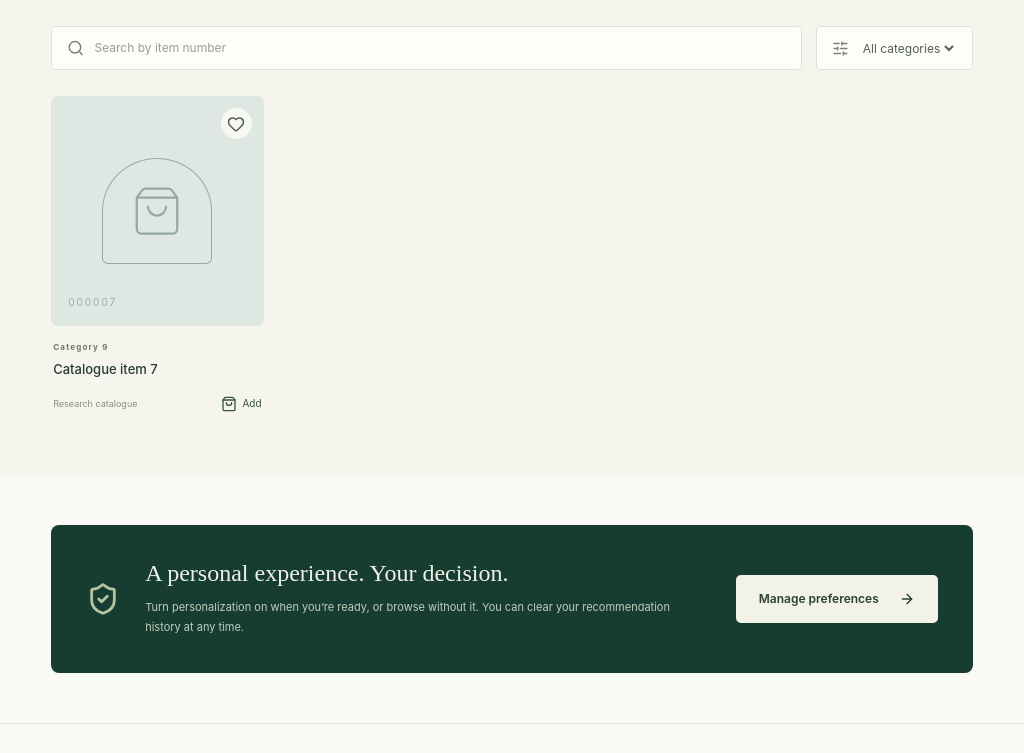
research storefront › closes item details when a guest starts basket sign-in
The width and height of the screenshot is (1024, 753).
(page scrolled)
Click the button "Catalogue item 7": (105, 370) [53, 360, 158, 380]
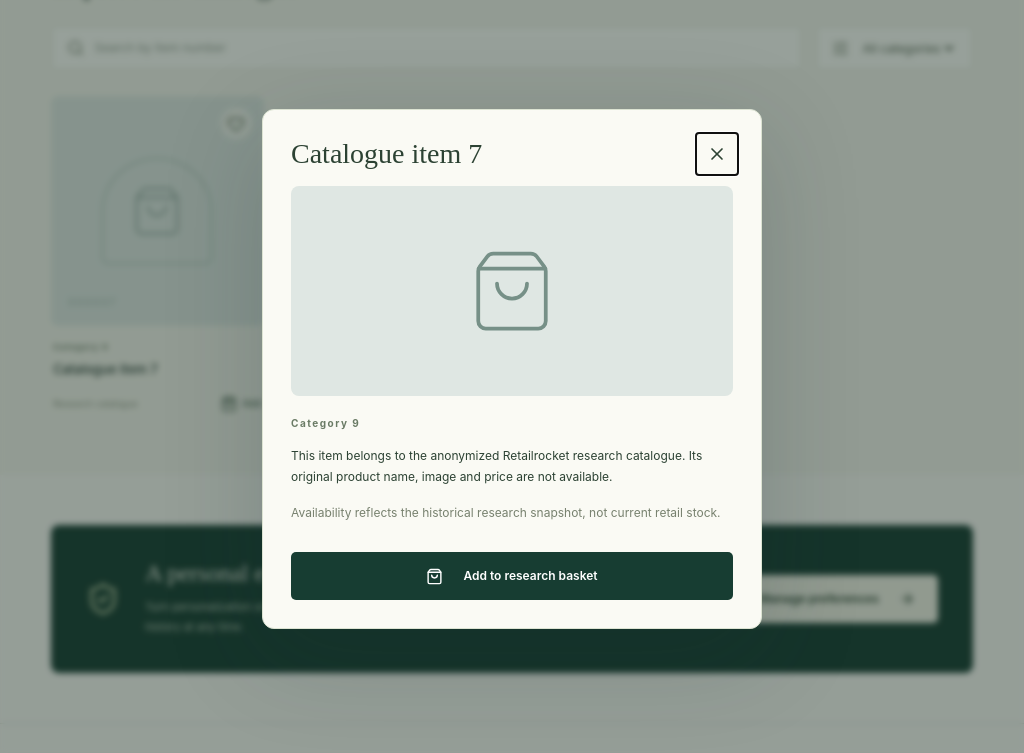
Now the dialog "Catalogue item 7" is shown, box [262, 109, 762, 629]
Click the button "Add to research basket": (512, 576) [291, 552, 733, 600]
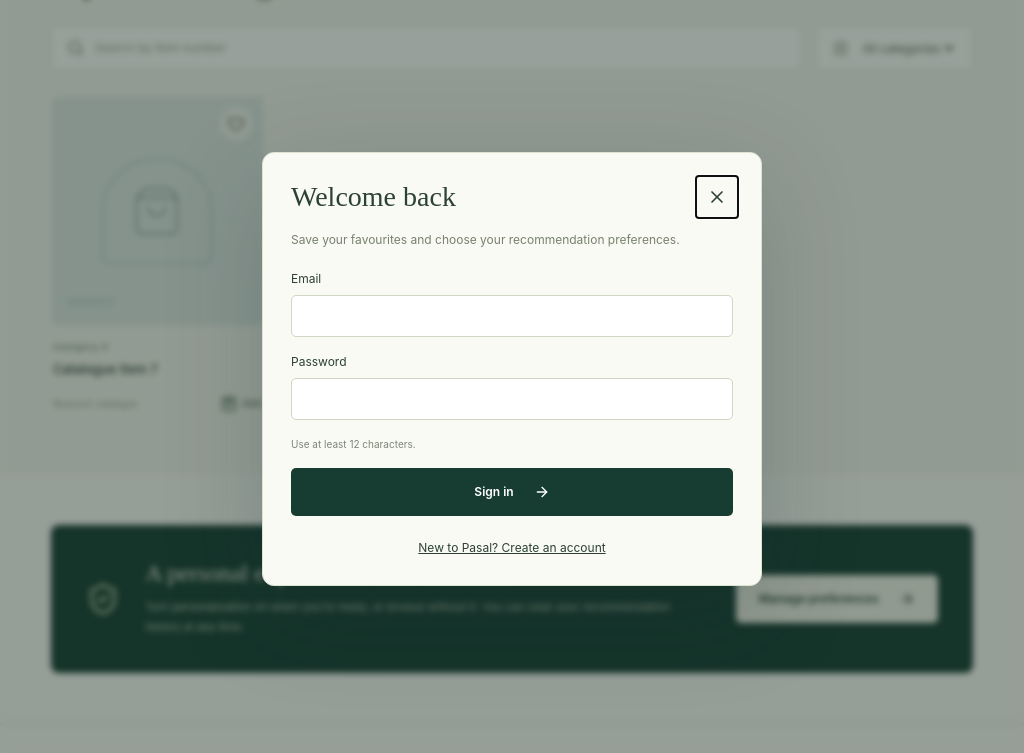
Now the dialog "Welcome back" is shown, box [262, 152, 762, 586]
